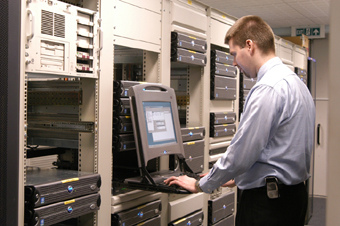person: (165, 16, 318, 226)
